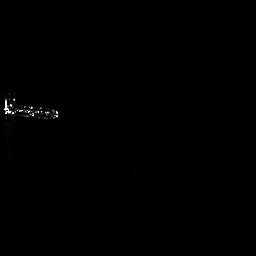ship: (4, 97, 59, 118)
